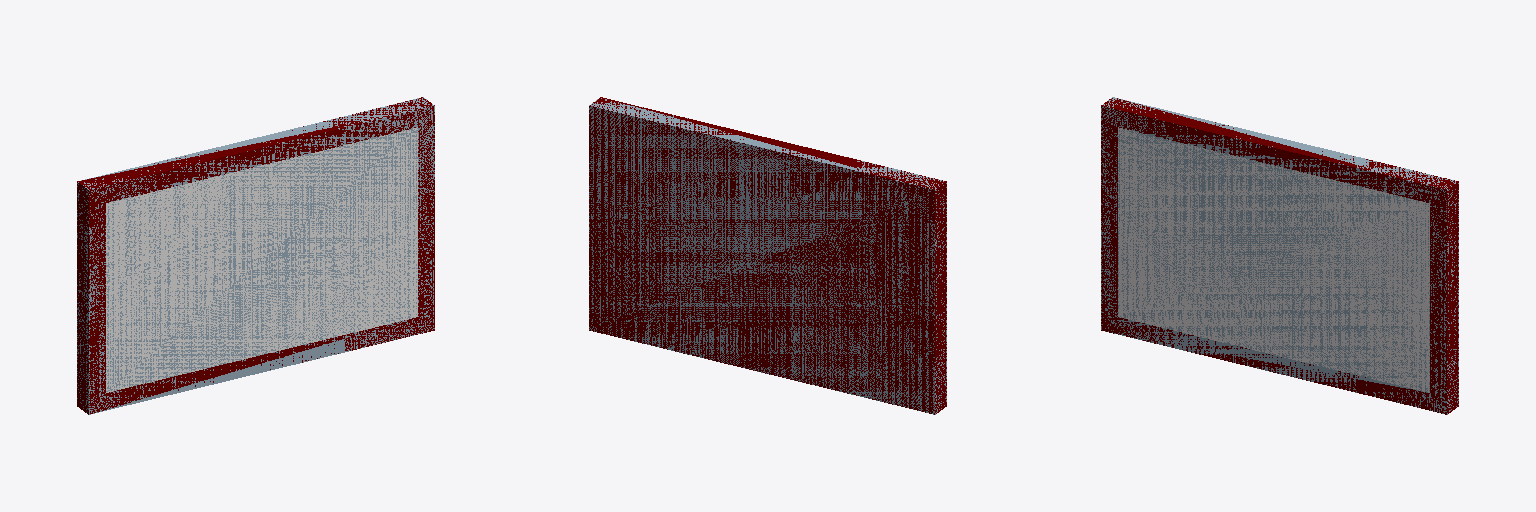
The model's file is edificio4.obj.
The picture shows the model from 3 angles: view 1: azimuth 30°, elevation 25°; view 2: azimuth 150°, elevation 25°; view 3: azimuth 330°, elevation 25°; orthographic projection.
Visible parts, largest first — view 1: Mesh1 Model; view 2: Mesh1 Model; view 3: Mesh1 Model.
Part boxes in pixels (x1,y1,x2,y2): Mesh1 Model: (77,97,434,414); Mesh1 Model: (589,97,946,414); Mesh1 Model: (1101,97,1458,414).
Bounding box in the file's own units: 96.62 × 60 × 5.62.